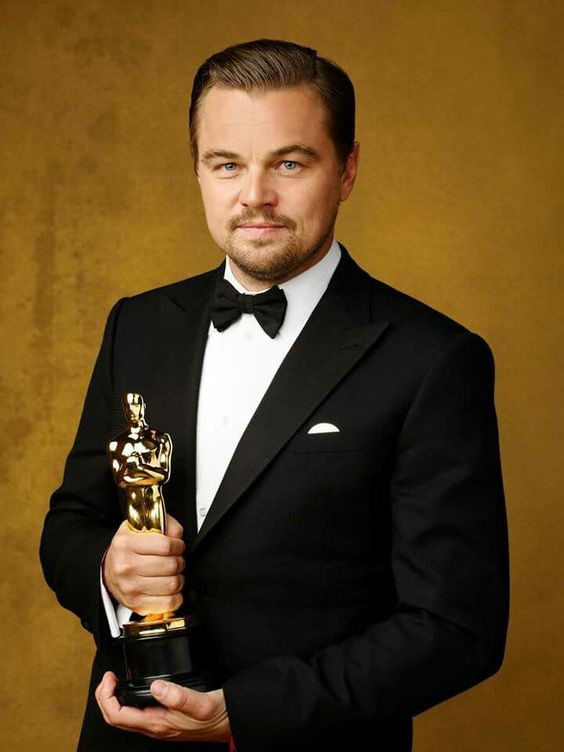hand: (98, 679, 236, 750)
